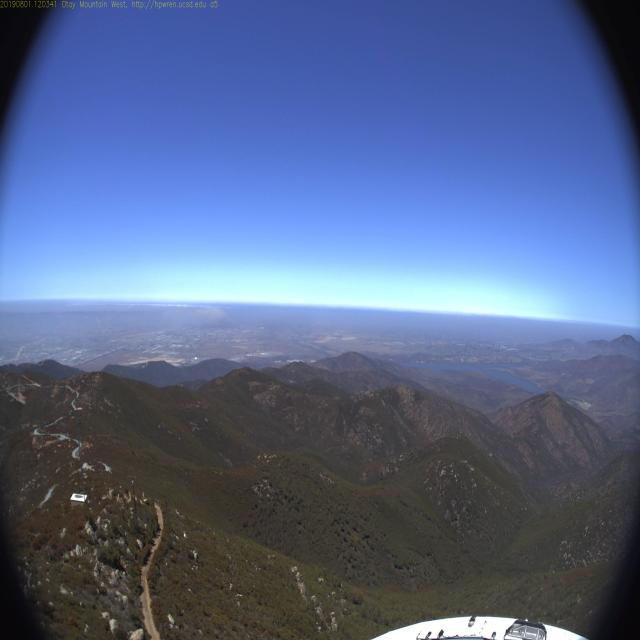smoke: (216, 305, 240, 333)
